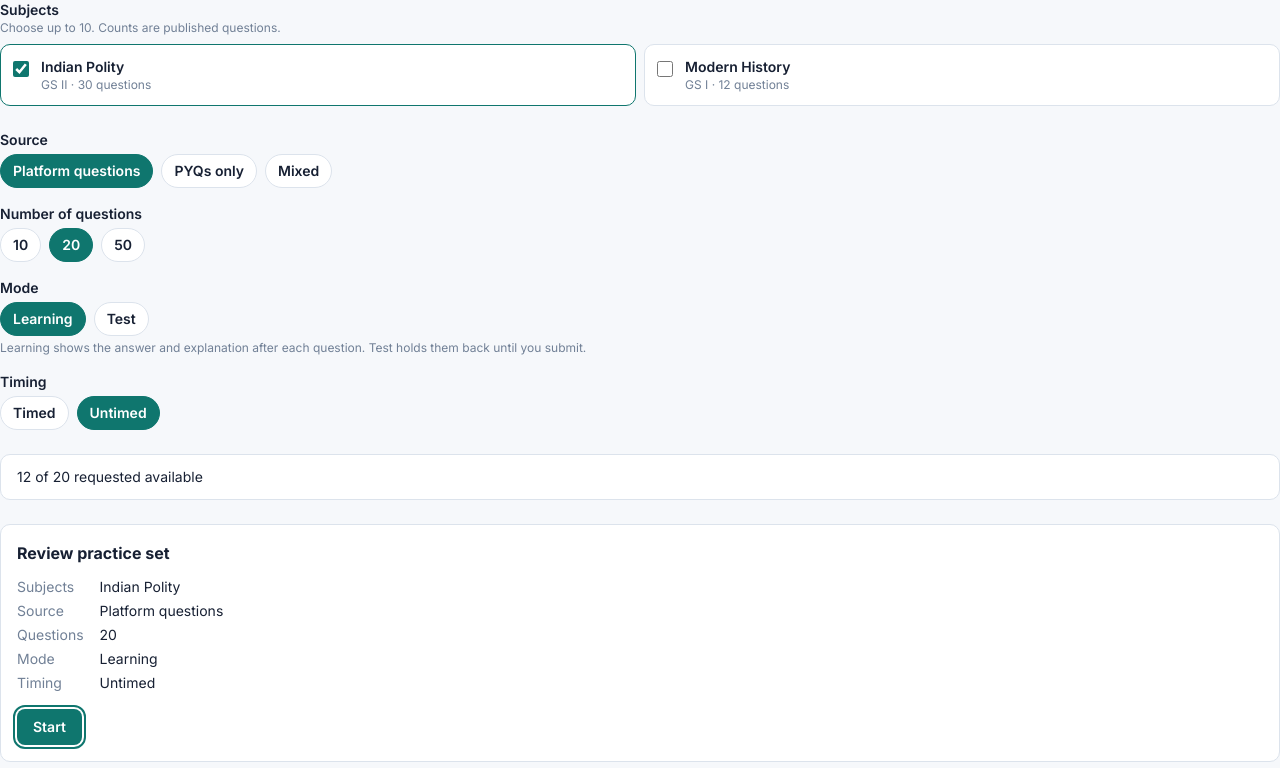
Test case: BuilderForm › shows the API message when the start fails
Expected: the text "12 of 20 requested available" is shown, top-left (0, 454), bottom-right (1279, 500)
Step 1. Click the button "Start" → click(49, 727), box top-left (17, 709), bottom-right (82, 745)
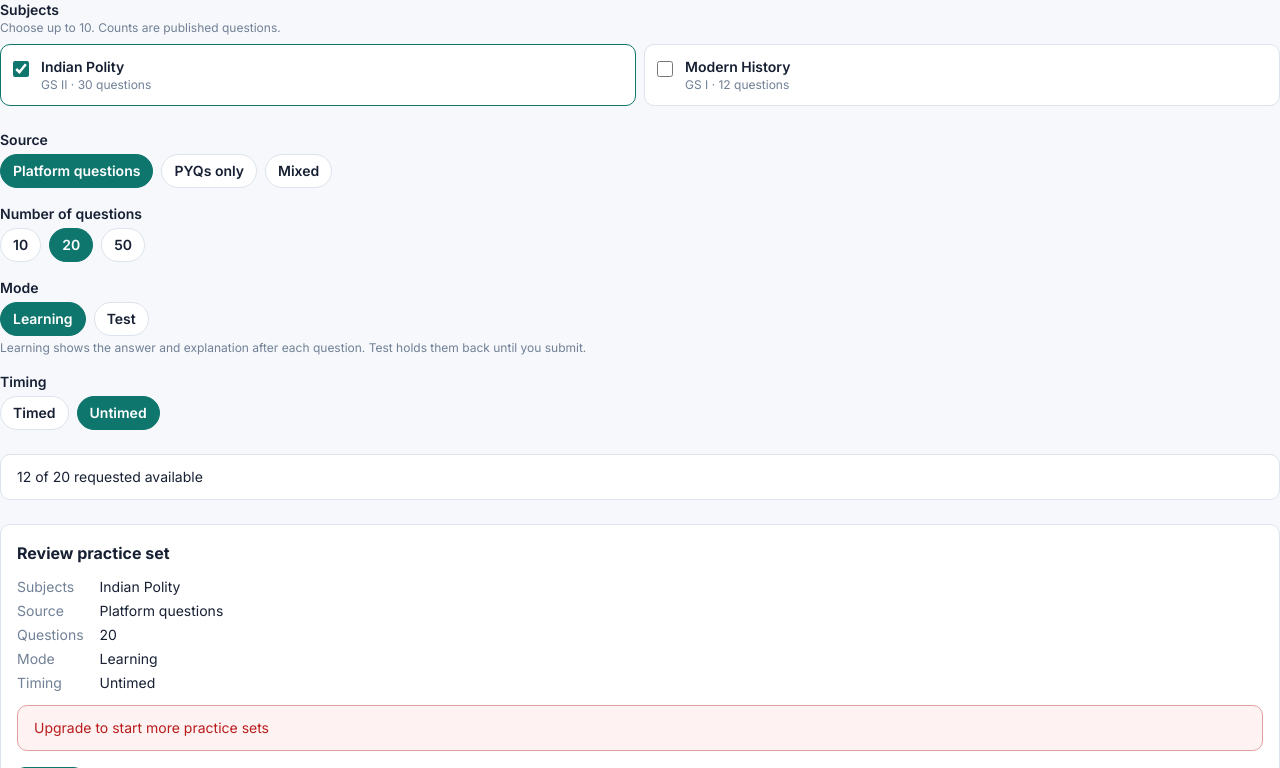
Now the text "Upgrade to start more practice sets" is shown, box top-left (17, 705), bottom-right (1263, 751)
